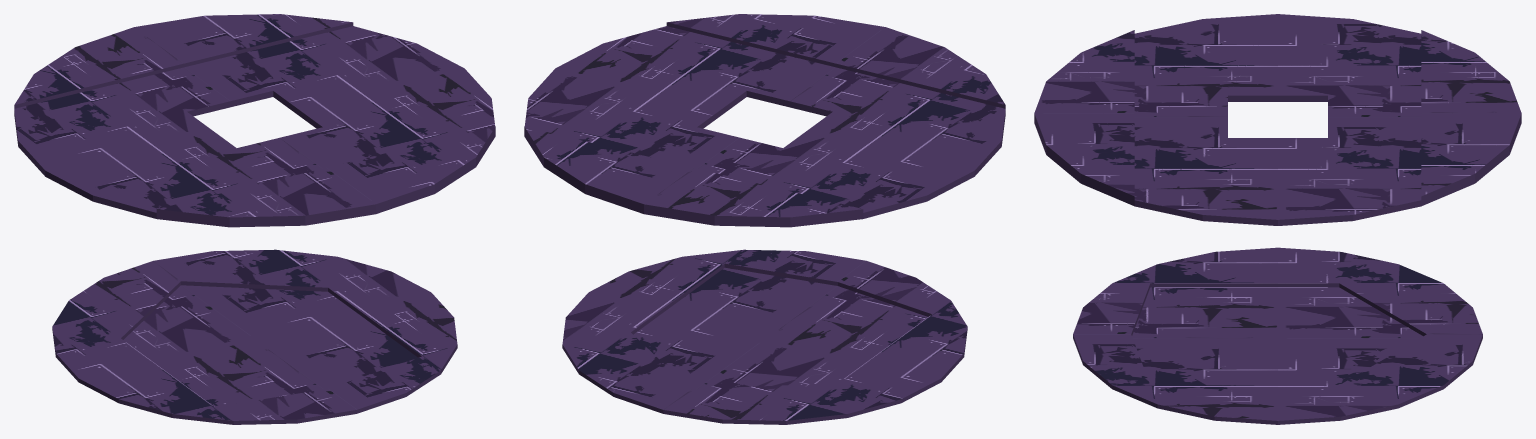
Rendered from spaceshipFloorMAPPED.FBX.
3 views of the same model, side by side, from view 1: azimuth 30°, elevation 25°; view 2: azimuth 150°, elevation 25°; view 3: azimuth 270°, elevation 25° (orthographic).
Visible parts, largest first — view 1: floor; view 2: floor; view 3: floor.
Boxes of the visible parts, left/top/right/bottom form: floor: left=14, top=14, right=495, bottom=424; floor: left=524, top=14, right=1005, bottom=424; floor: left=1034, top=14, right=1521, bottom=424.
Bounding box in the file's own units: 584 × 584 × 298.
